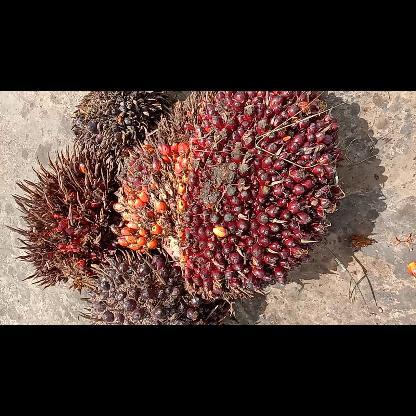Kurang masak: (81, 250, 235, 324)
TBS abnormal: (72, 90, 174, 170)
TBS masak: (110, 92, 343, 298)
Terlalu masak: (3, 146, 119, 286)
